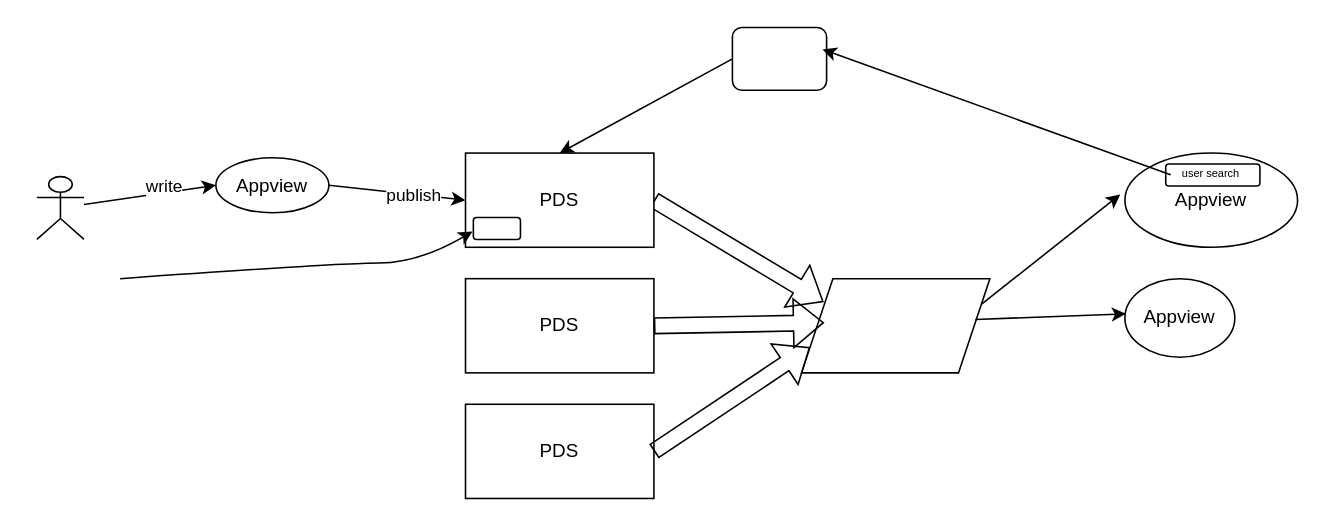
Image size: 1325x526. Some labels were removed from this diagram. The shapes that lost their labels are listed below. From the top down, each one's centre as x and y in pixels, then its label:
the point at 779,58: PLC Directory
the point at 59,207: User Account
the point at 496,227: DID
the point at 895,325: Relay
